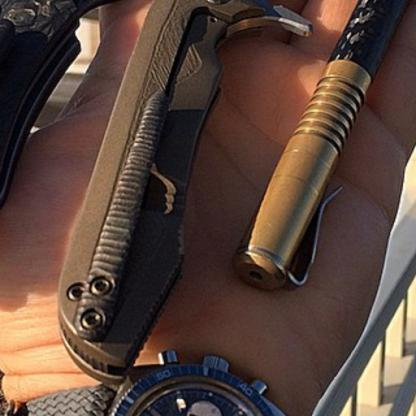knife: (45, 0, 368, 379), (0, 0, 236, 293)
